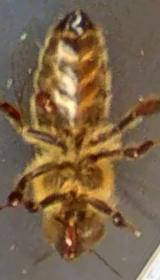varroa_mite: (33, 82, 66, 113)
